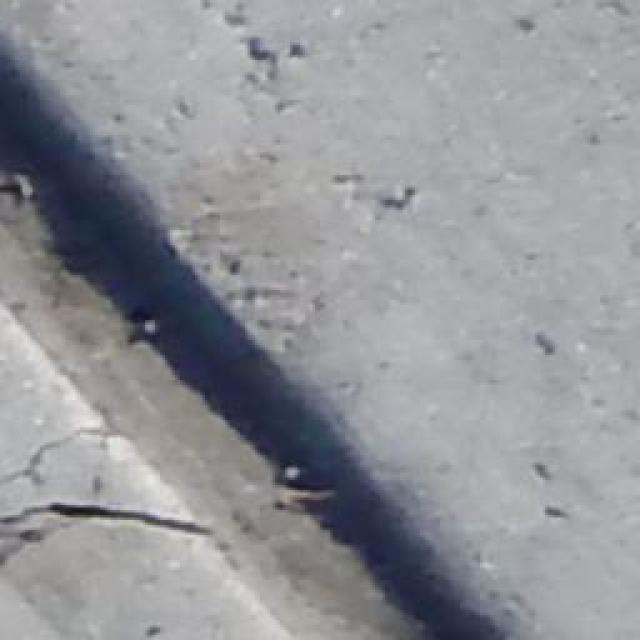concrete-crack: (0, 44, 528, 640)
